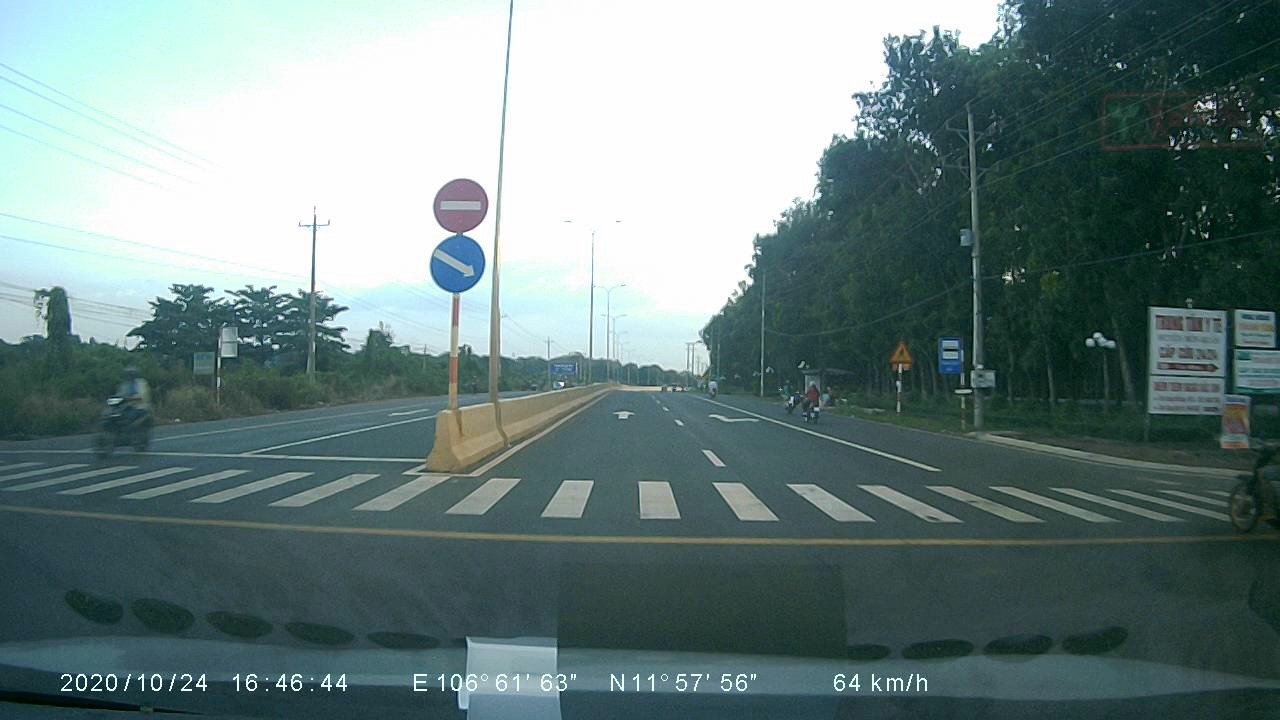Bien khac: (937, 333, 963, 373), (886, 336, 914, 365)
Cam di nguoc chieu: (431, 173, 495, 233)
Huong di phai re phai: (428, 234, 488, 291)
